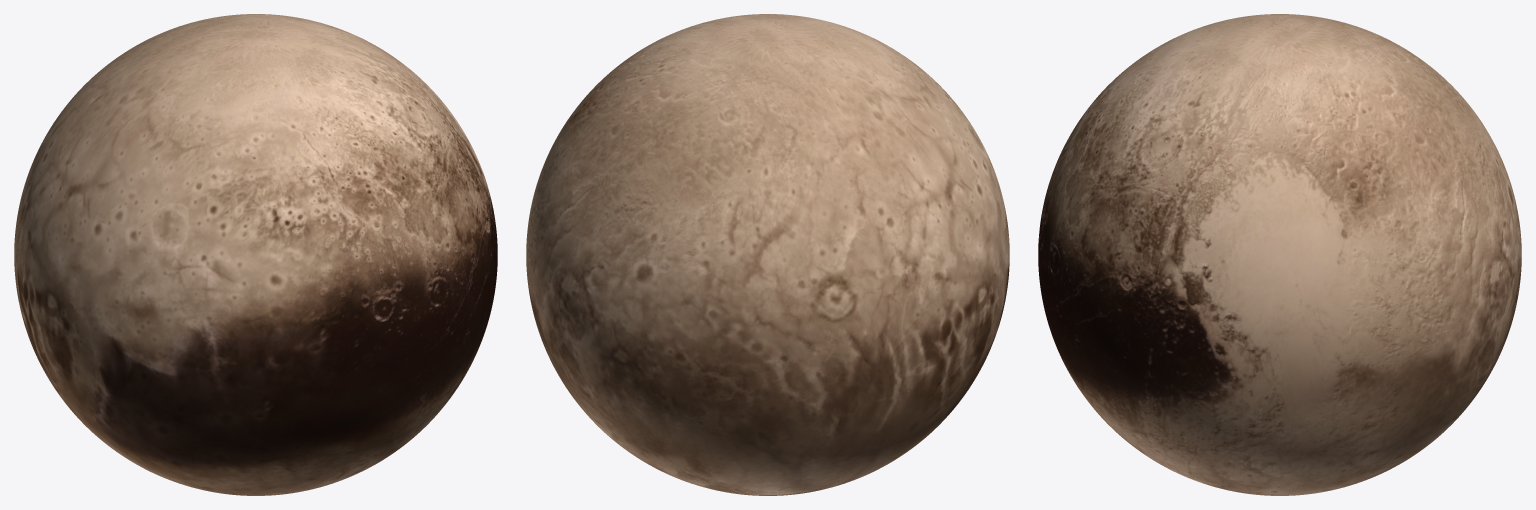
File: pluto.gltf
3 renders of one model, left to right at view 1: azimuth 30°, elevation 25°; view 2: azimuth 150°, elevation 25°; view 3: azimuth 270°, elevation 25°, orthographic.
Visible parts, largest first — view 1: Object_4; view 2: Object_4; view 3: Object_4.
Part boxes in pixels (left/top/right/bottom): Object_4: left=14, top=14, right=497, bottom=495; Object_4: left=526, top=14, right=1009, bottom=495; Object_4: left=1038, top=14, right=1521, bottom=495.
Bounding box in the file's own units: 1 × 1 × 1.
Materials: 1 (1 with a texture image).
